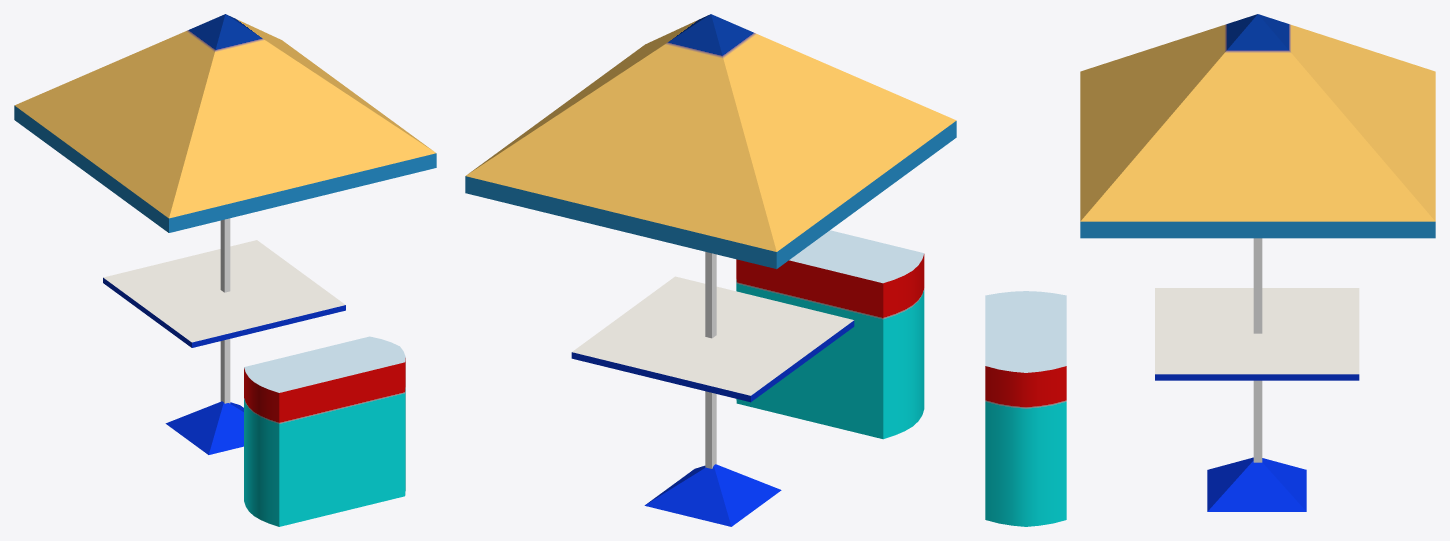
Rendered from Info_Drink_Umbrella.FBX.
3 views of the same model, side by side, from view 1: azimuth 30°, elevation 25°; view 2: azimuth 150°, elevation 25°; view 3: azimuth 270°, elevation 25° (orthographic). The views are drawn at different scales.
Parts seen in each view (by area): view 1: Info__Drink_Umbrella; view 2: Info__Drink_Umbrella; view 3: Info__Drink_Umbrella.
Part boxes in pixels (x1=…): Info__Drink_Umbrella: x1=14, y1=14, x2=436, y2=526; Info__Drink_Umbrella: x1=465, y1=14, x2=956, y2=526; Info__Drink_Umbrella: x1=985, y1=14, x2=1435, y2=526.
Size of the model in its own units: 21.96 by 32.6 by 27.84.
